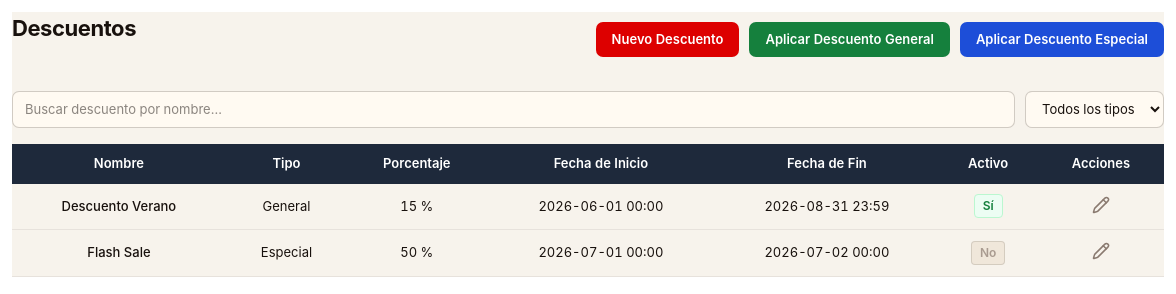
Test: WorkerDiscountsPage › filters discounts by name
Type "flash" into the field with placeholder "Buscar descuento por nombre…" at coordinates (514, 109), box [12,90,1015,128]
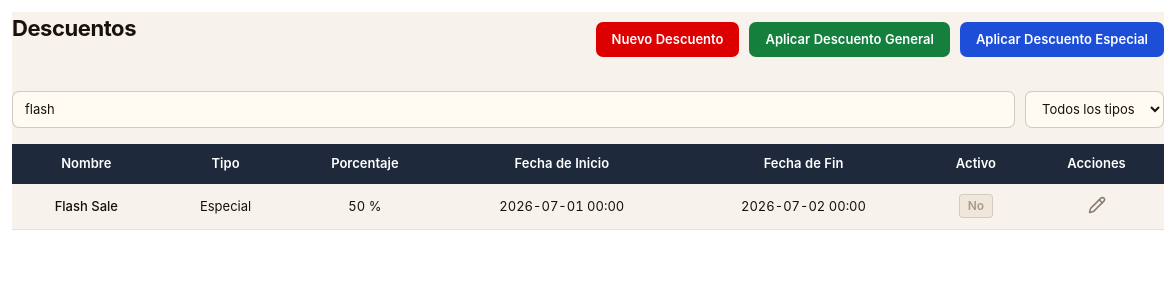
Expected: the text "Flash Sale" is shown, [12,184,161,230]
Expected: the text "Descuento Verano" is gone
